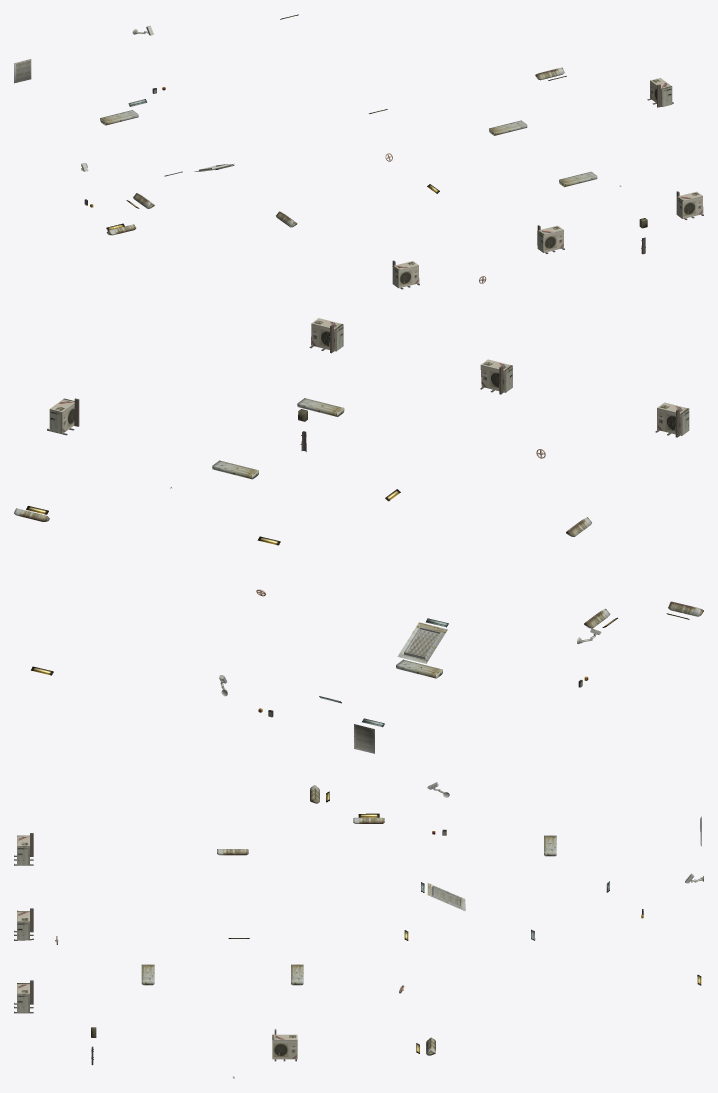
File: Corridor_01_21.fbx
The picture shows the model from 3 angles, top to bottom: view 1: azimuth 30°, elevation 25°; view 2: azimuth 150°, elevation 25°; view 3: azimuth 270°, elevation 25°; orthographic projection. The views are drawn at different scales.
Visible parts, largest first — view 1: Corridor_01_21; view 2: Corridor_01_21, Corridor_00_00.007; view 3: Corridor_01_21.
Boxes of the visible parts, left/top/right/bottom form: Corridor_01_21: left=14, top=25, right=703, bottom=289; Corridor_01_21: left=14, top=318, right=703, bottom=753; Corridor_00_00.007: left=26, top=489, right=689, bottom=727; Corridor_01_21: left=14, top=782, right=703, bottom=1078.
Bounding box in the file's own units: 3793 × 594 × 3896.
